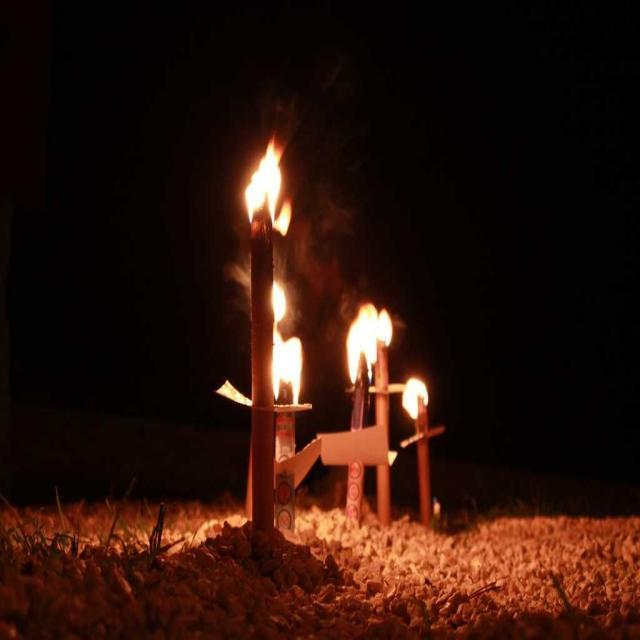Fire: (345, 308, 398, 386), (244, 154, 294, 236), (272, 281, 304, 403), (404, 373, 434, 418)
